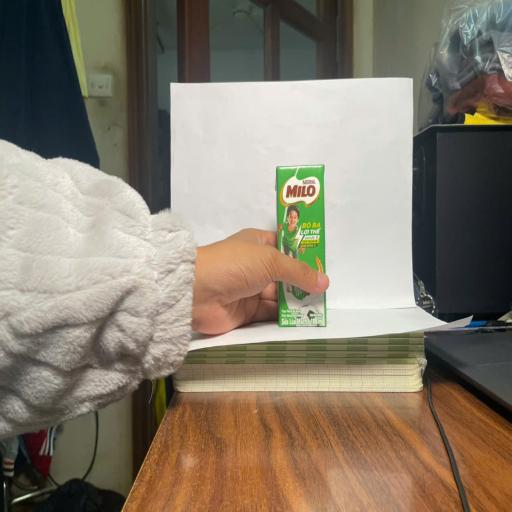milo: (276, 164, 326, 328)
